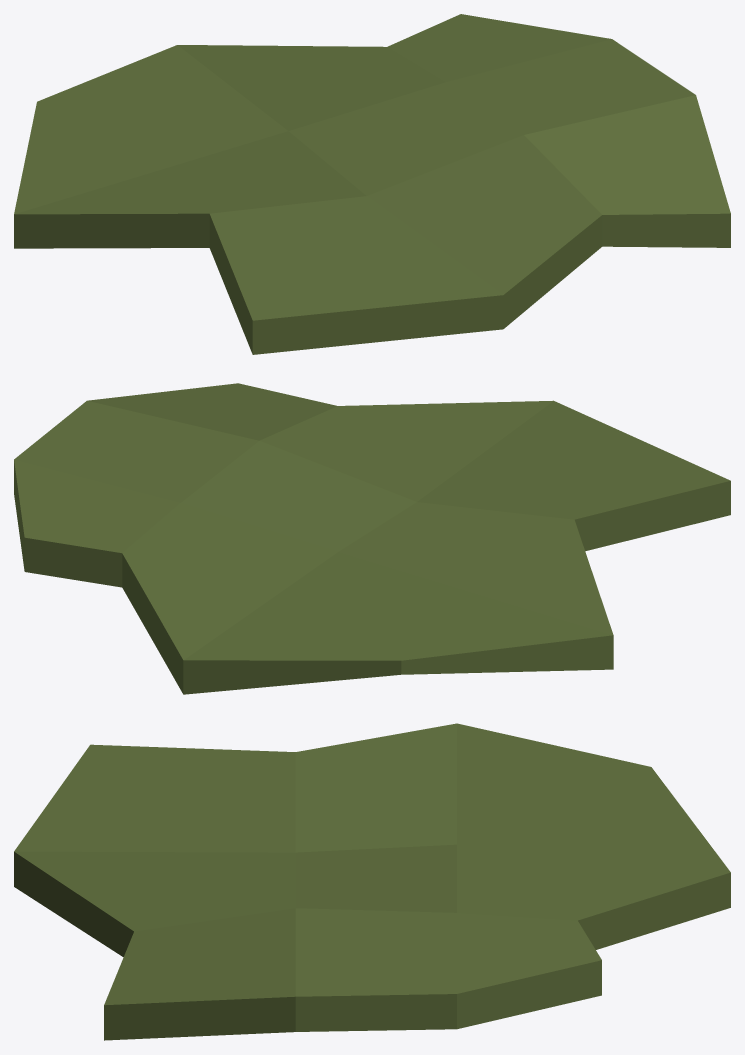
The model's file is Gras3.fbx.
3 renders of one model, top to bottom at view 1: azimuth 30°, elevation 25°; view 2: azimuth 150°, elevation 25°; view 3: azimuth 270°, elevation 25°, orthographic. The views are drawn at different scales.
Visible parts, largest first — view 1: Gras3; view 2: Gras3; view 3: Gras3.
Boxes of the visible parts, box(x1,y1,x2,y2) form: Gras3: box(14, 14, 730, 354); Gras3: box(14, 383, 730, 694); Gras3: box(14, 723, 730, 1040).
Size of the model in its own units: 137 by 15.81 by 137.
